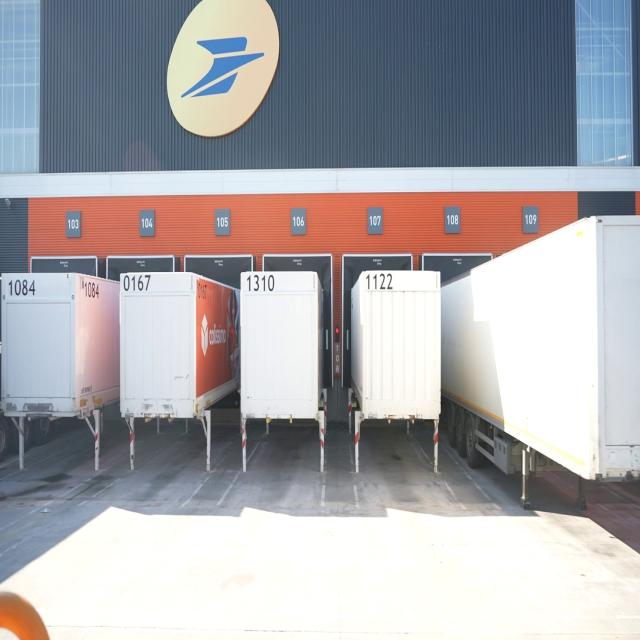Code: (364, 268, 396, 297), (120, 269, 153, 295), (244, 273, 279, 293), (7, 276, 36, 299), (80, 276, 102, 300)
